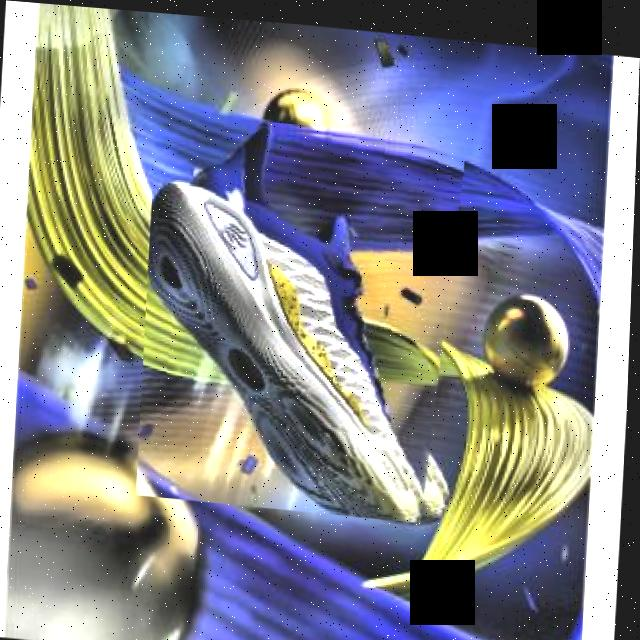shoe: (139, 108, 467, 518)
